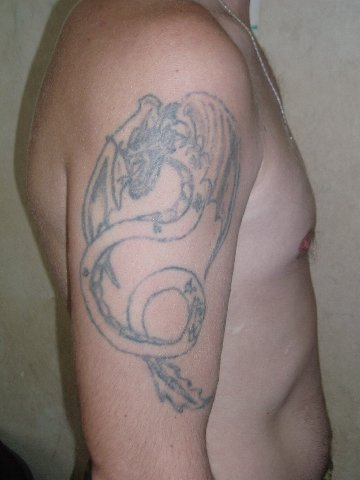tatu6_drakon: (78, 80, 265, 421)
